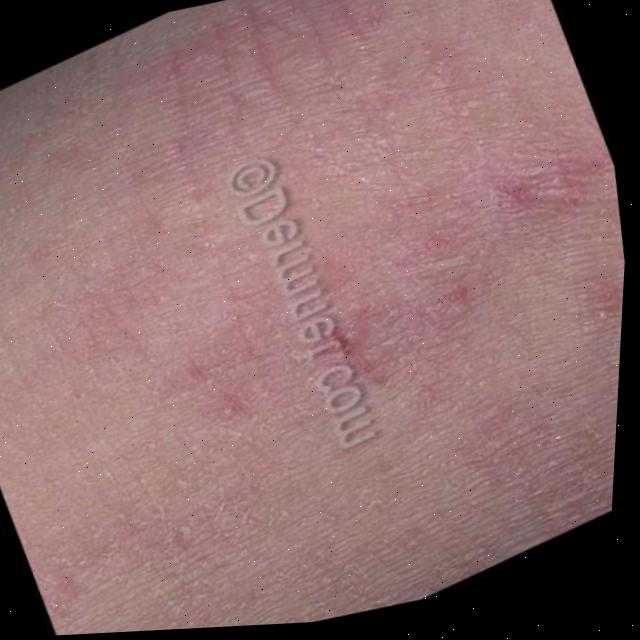Eczema: (4, 0, 639, 623)
